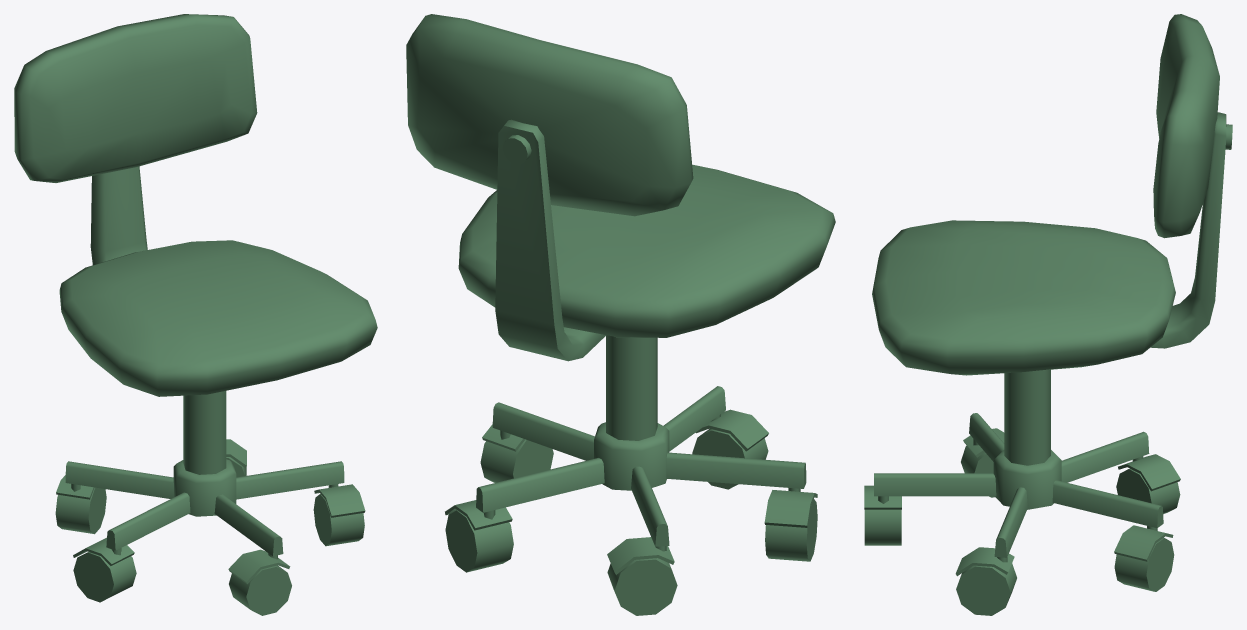
Rendered from OfficeChair.FBX.
The picture shows the model from 3 angles, left to right: view 1: azimuth 30°, elevation 25°; view 2: azimuth 150°, elevation 25°; view 3: azimuth 270°, elevation 25°; orthographic projection. The views are drawn at different scales.
Visible parts, largest first — view 1: OfficeChair; view 2: OfficeChair; view 3: OfficeChair.
Boxes of the visible parts, left/top/right/bottom form: OfficeChair: left=14, top=14, right=377, bottom=615; OfficeChair: left=406, top=14, right=835, bottom=615; OfficeChair: left=864, top=14, right=1232, bottom=615.
Bounding box in the file's own units: 71.1 × 117 × 79.18.
